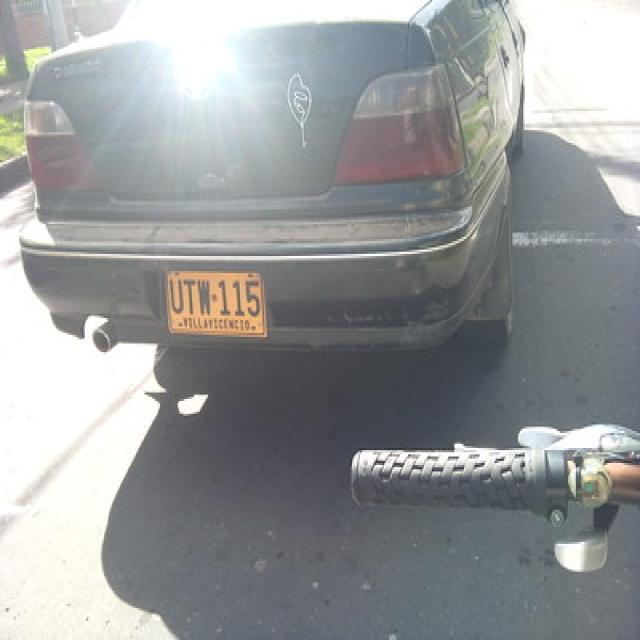placa_carro: (159, 265, 271, 345)
